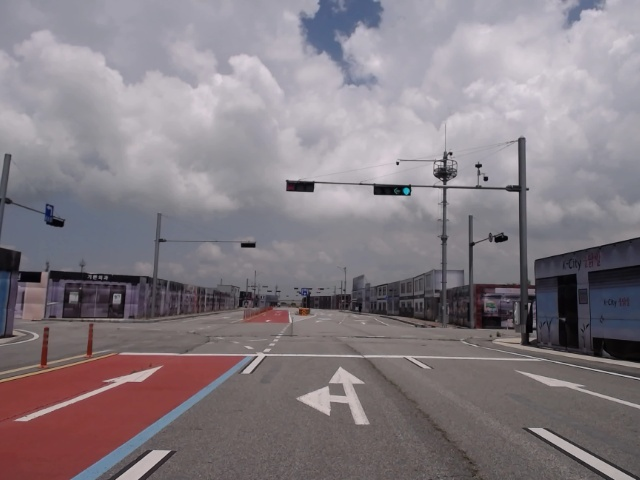all_green_4: (373, 184, 409, 195)
